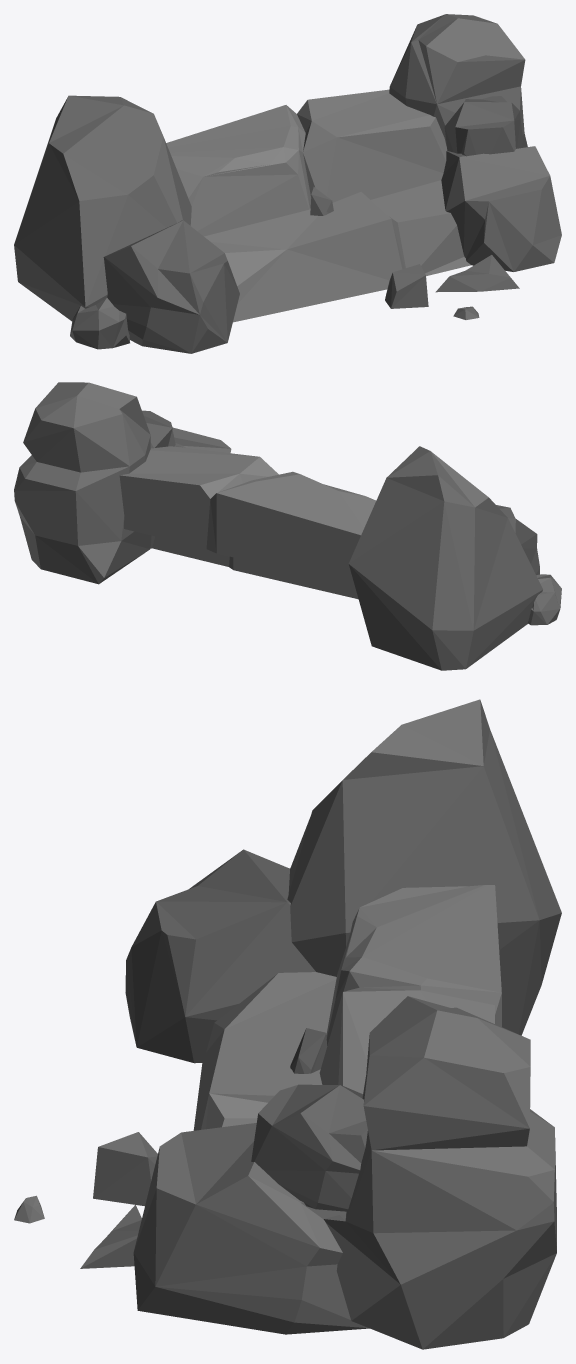
Rendered from Stairs_01.FBX.
The picture shows the model from 3 angles, top to bottom: view 1: azimuth 30°, elevation 25°; view 2: azimuth 150°, elevation 25°; view 3: azimuth 270°, elevation 25°; orthographic projection. The views are drawn at different scales.
Visible parts, largest first — view 1: Stairs_01; view 2: Stairs_01; view 3: Stairs_01.
Boxes of the visible parts, x1,y1,x2,y2 form: Stairs_01: [14, 14, 561, 353]; Stairs_01: [14, 382, 561, 670]; Stairs_01: [14, 699, 561, 1349].
Size of the model in its own units: 4.9 by 1.74 by 2.84.
